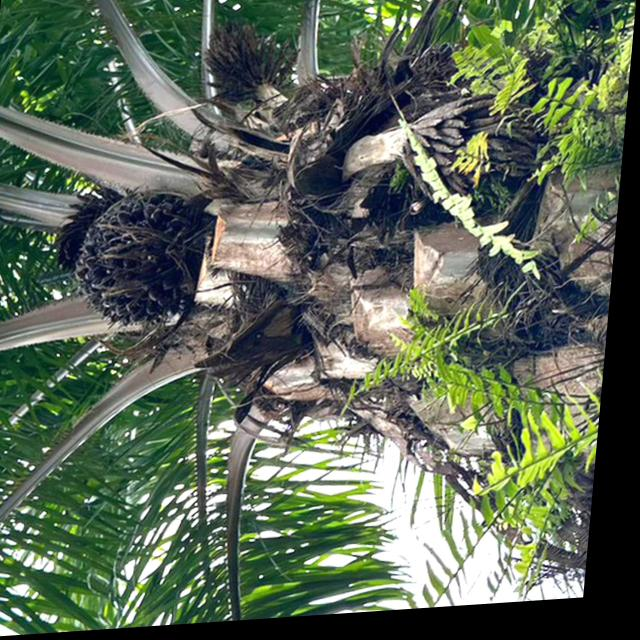ripe: (70, 185, 219, 343)
